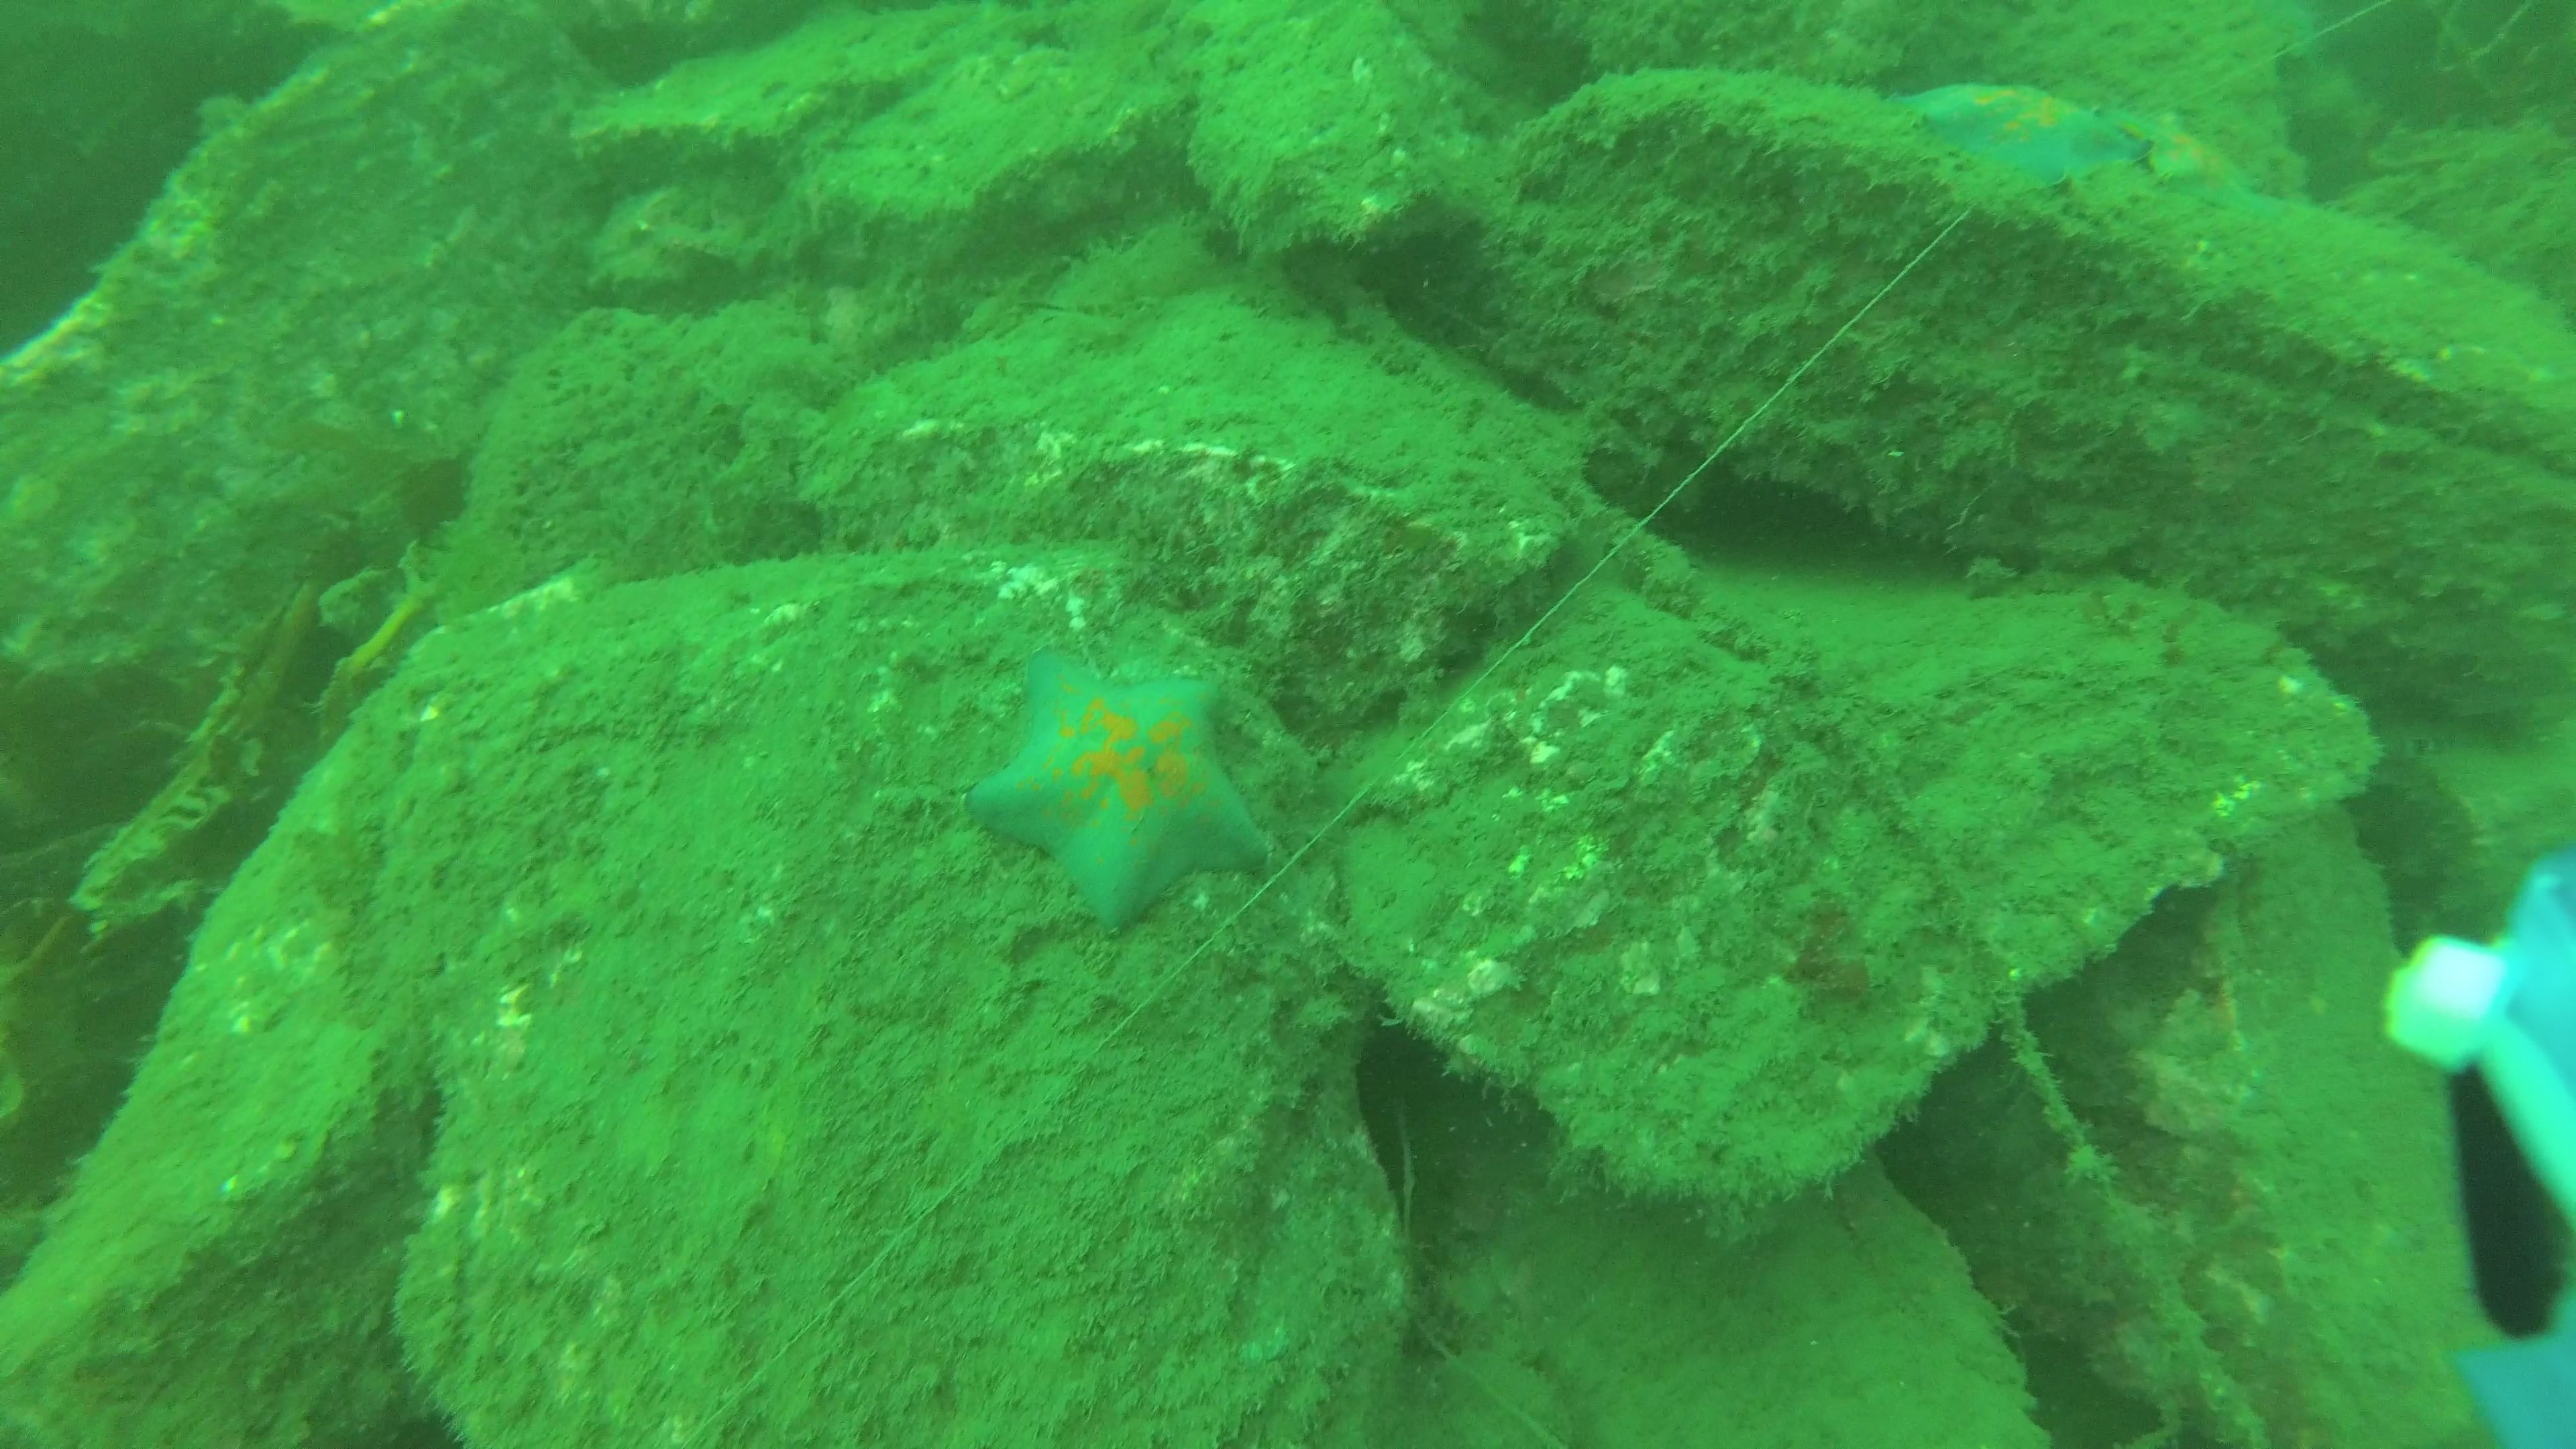starfish: (971, 667, 1270, 924), (1909, 88, 2135, 188), (2114, 110, 2254, 193)
